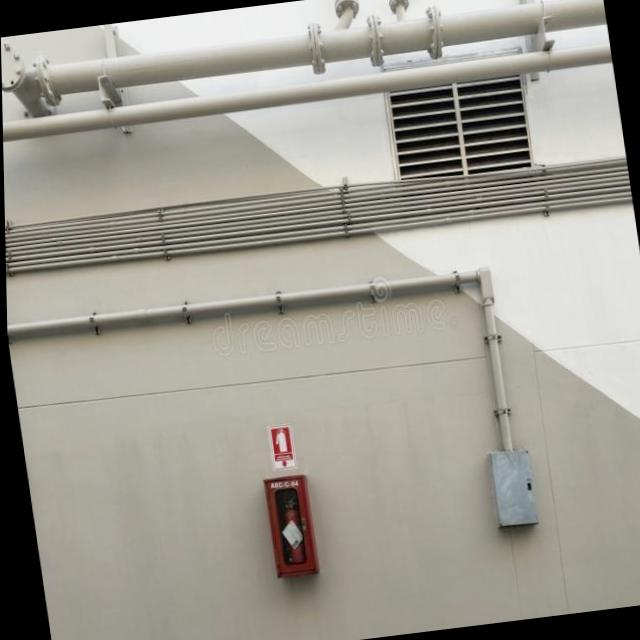FireExtinguisher: (271, 486, 309, 572)
